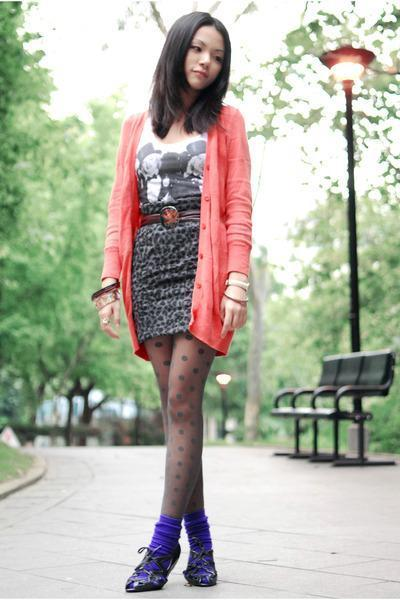dress: (131, 132, 207, 347)
jacket: (101, 105, 252, 347)
shoe: (132, 492, 220, 592)
